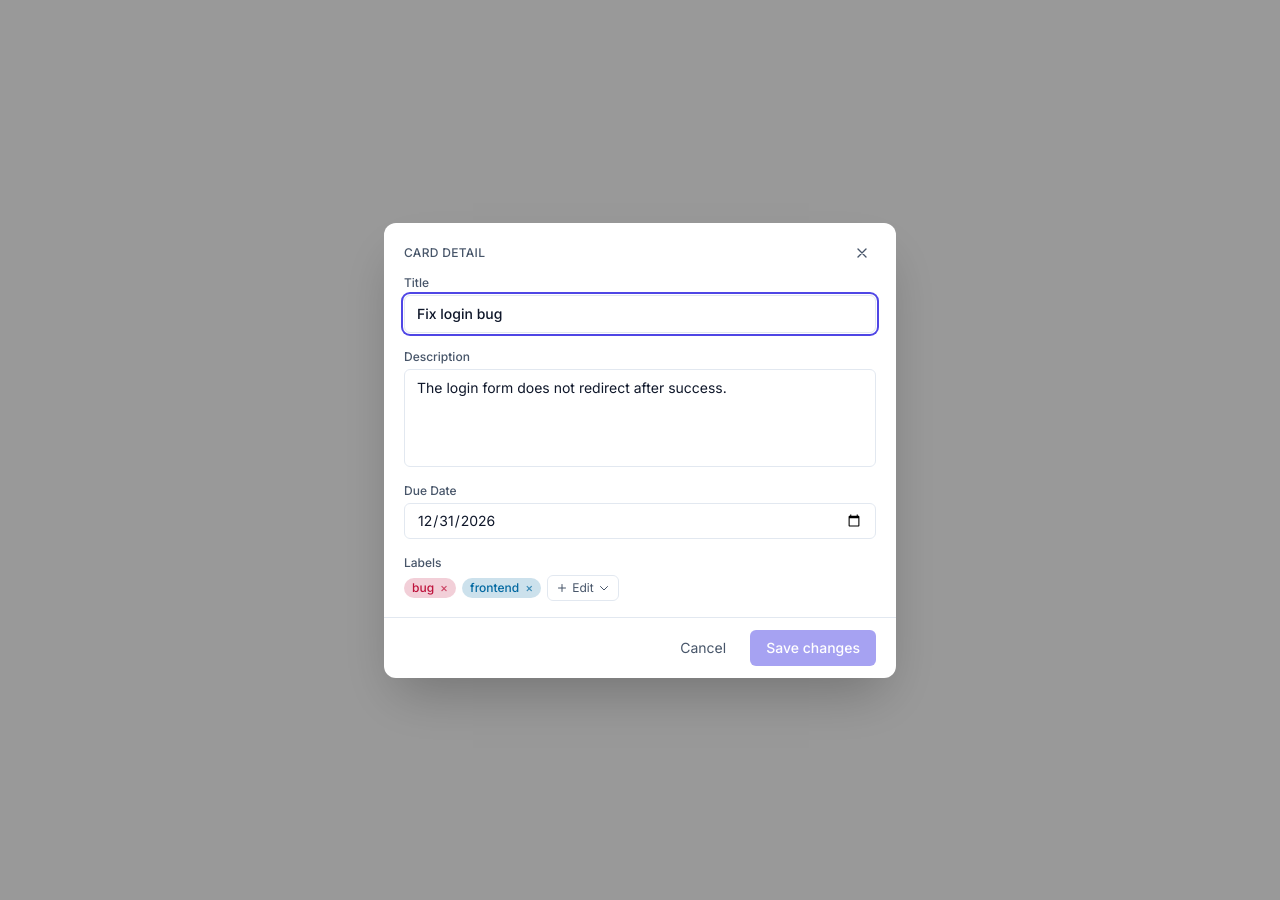
Test case: CardDetailModal › Save button becomes enabled when title is changed
Replace the text in the field showing "Fix login bug" with "Fixed login bug" at (640, 314), box [404, 294, 876, 332]
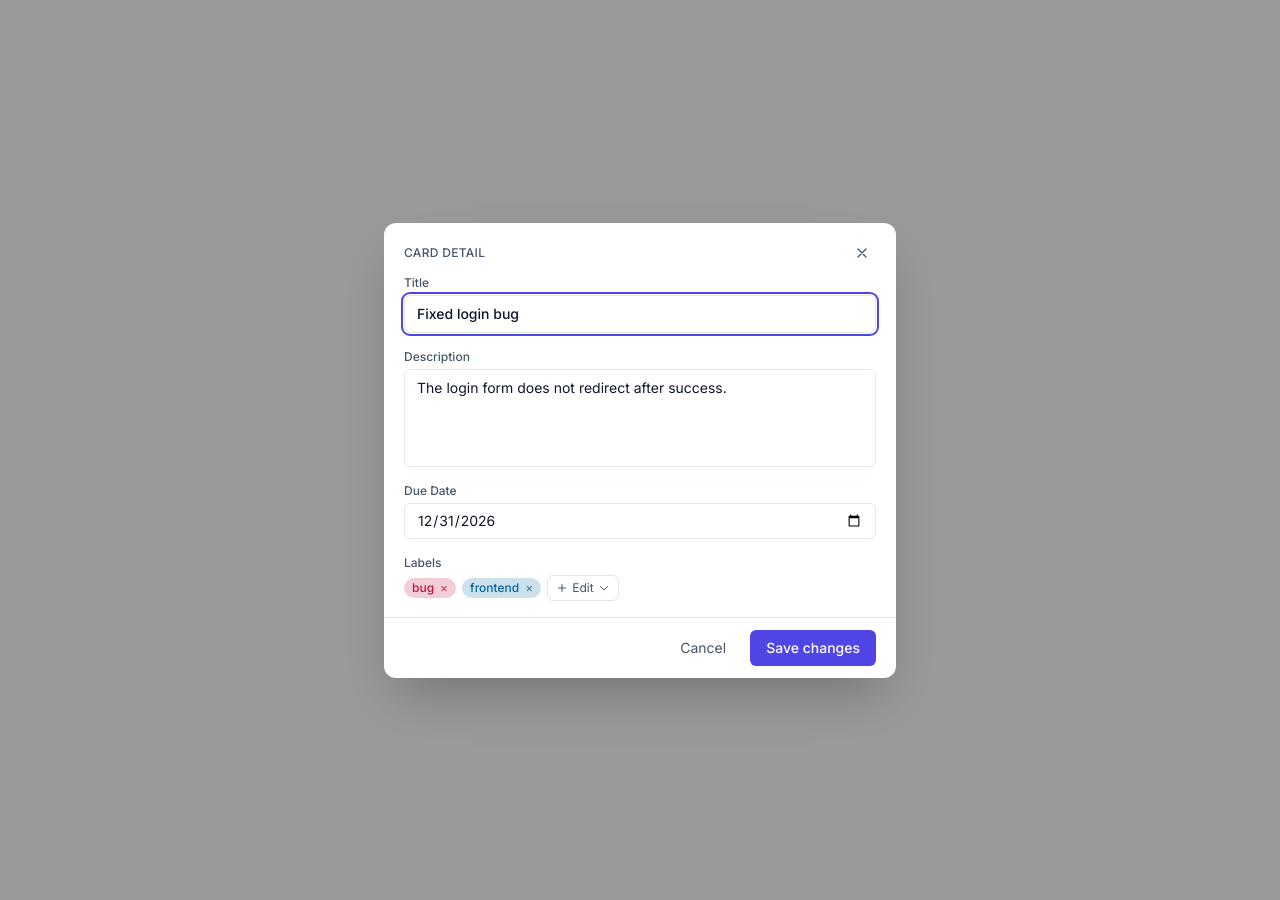
expect the button "Save changes" is enabled: met, box [750, 630, 876, 666]
